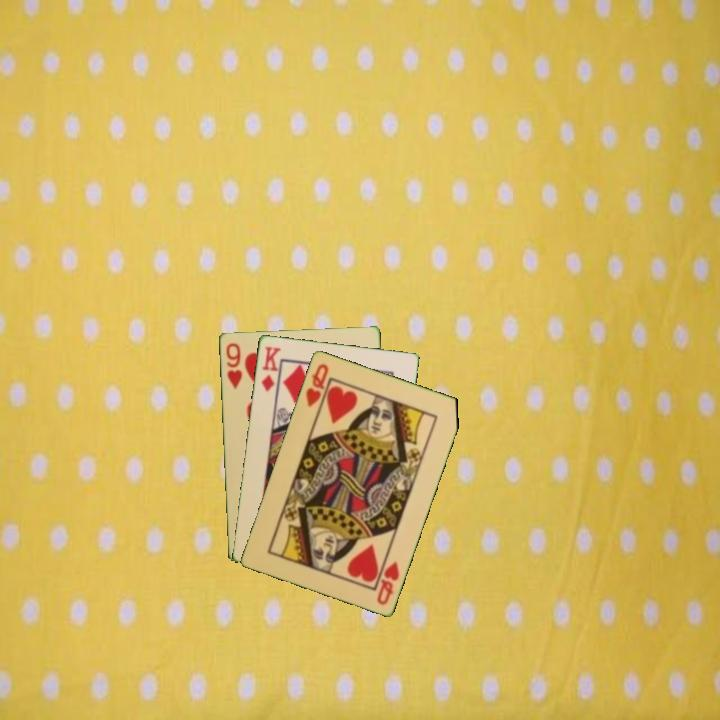9h: (222, 339, 245, 391)
Kd: (257, 342, 283, 394)
Qh: (302, 360, 331, 409), (373, 558, 402, 607)
